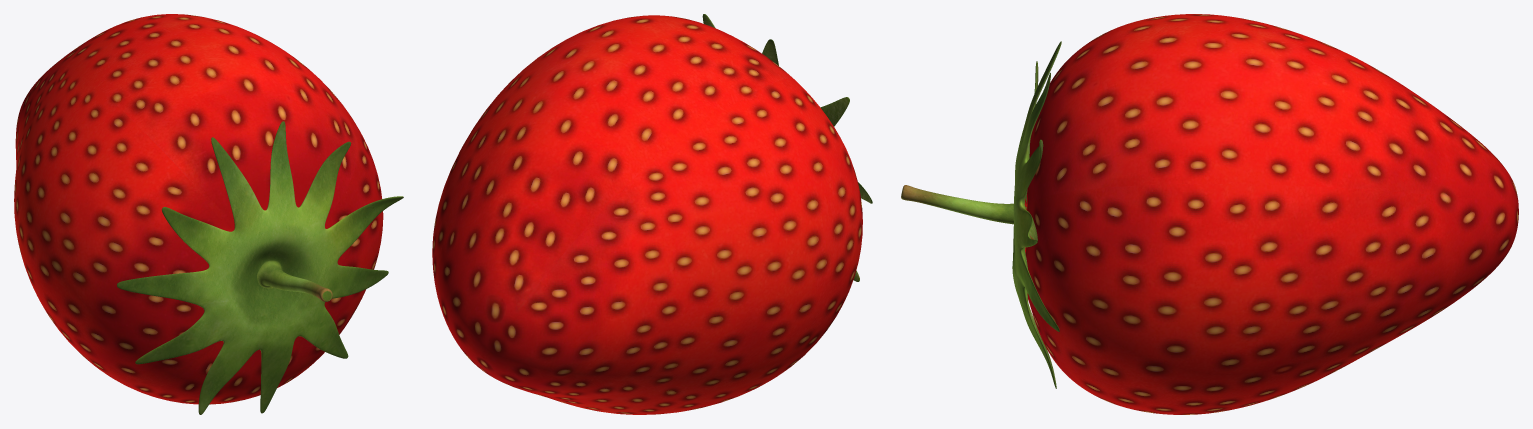
Rendered from Strawberry-L3.obj.
3 renders of one model, left to right at view 1: azimuth 30°, elevation 25°; view 2: azimuth 150°, elevation 25°; view 3: azimuth 270°, elevation 25°, orthographic. The views are drawn at different scales.
Visible parts, largest first — view 1: Starwberry Fruit, Leaf Starwberry; view 2: Starwberry Fruit, Leaf Starwberry; view 3: Starwberry Fruit, Leaf Starwberry.
Boxes of the visible parts, bbox=[...] form: Starwberry Fruit: bbox=[14, 14, 383, 404]; Leaf Starwberry: bbox=[117, 121, 403, 414]; Starwberry Fruit: bbox=[432, 15, 862, 414]; Leaf Starwberry: bbox=[702, 14, 872, 281]; Starwberry Fruit: bbox=[1025, 14, 1518, 414]; Leaf Starwberry: bbox=[901, 41, 1061, 388].
Bounding box in the file's own units: 4.17 × 4.16 × 6.27.
